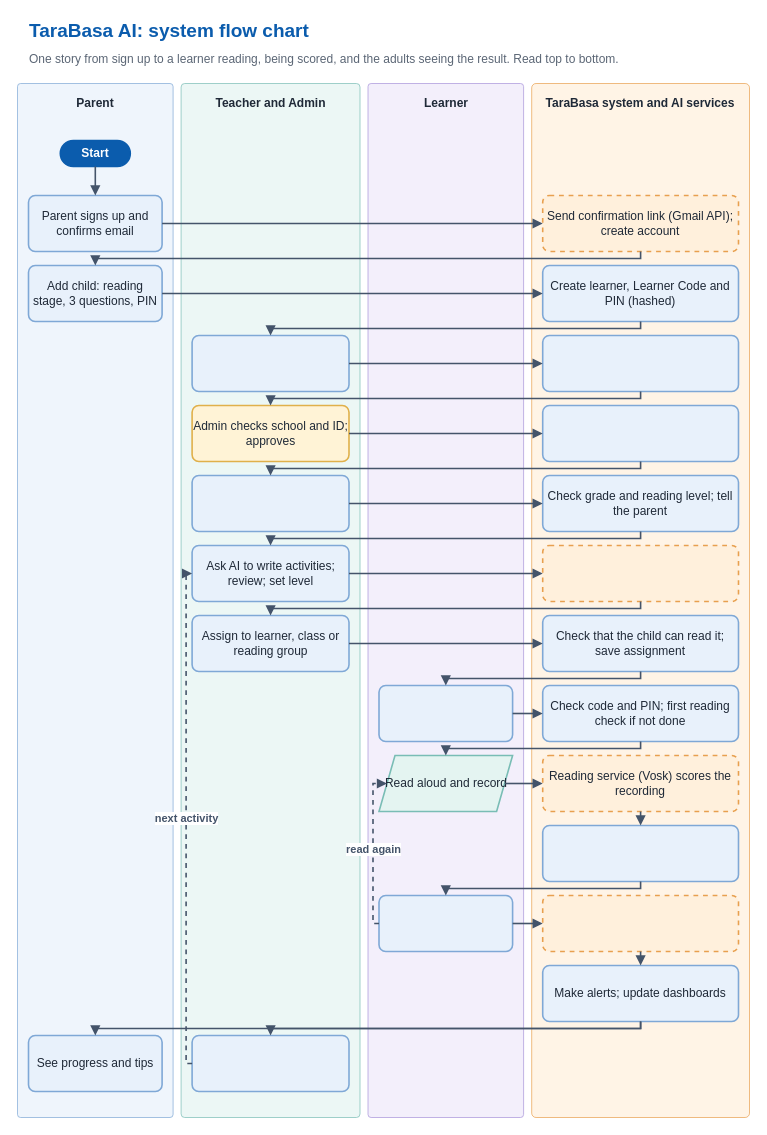
Image size: 767x1135. Some labels were removed from this diagram. Each missing label, with the centre of its shape:
"Adaptive recommender updates profile and suggests next" belongs at (x=640, y=923).
"AI activity writer (Gemini) saves drafts in the background" belongs at (x=640, y=573).
"Create class (one grade); add child by code or QR" belongs at (x=270, y=503).
"Create teacher account (status Pending)" belongs at (x=640, y=363).
"Rules: accuracy, step moves slowly, word bank, badges" belongs at (x=640, y=853).
"Scan card or type code; enter PIN" belongs at (x=445, y=713).
"See alerts and analytics; assign next" belongs at (x=270, y=1063).
"See results, points and badges" belongs at (x=445, y=923).
"Teacher becomes Active; grades confirmed" belongs at (x=640, y=433).
"Teacher signs up and confirms email" belongs at (x=270, y=363).
